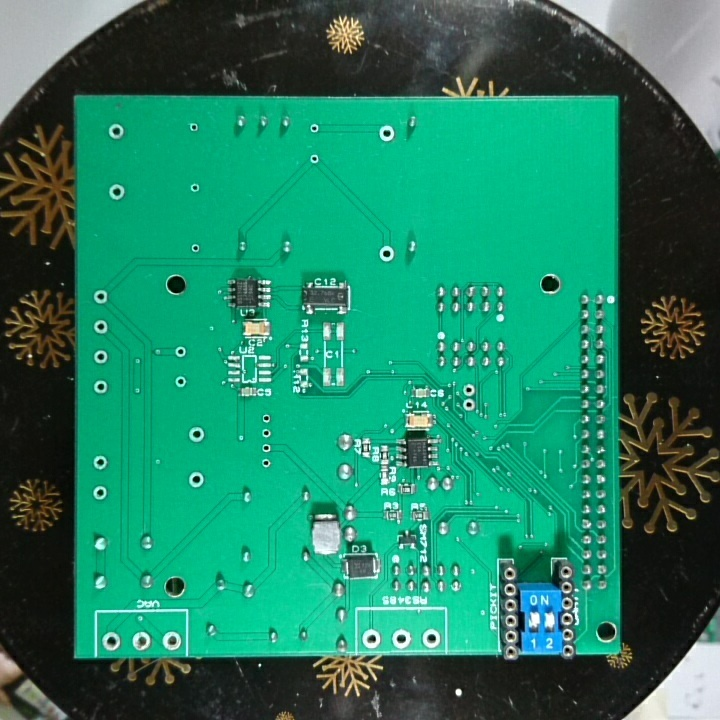F: (129, 628, 154, 652), (100, 629, 123, 654), (161, 629, 184, 653), (359, 627, 383, 650), (390, 627, 414, 650), (420, 626, 442, 650), (186, 469, 208, 492), (105, 122, 127, 144), (186, 422, 206, 446), (377, 243, 397, 266), (105, 181, 126, 202), (377, 122, 396, 145), (91, 346, 112, 366), (89, 484, 109, 505), (91, 286, 111, 306), (91, 452, 111, 472), (91, 318, 110, 337), (171, 342, 188, 362), (91, 378, 109, 396), (171, 373, 189, 390), (306, 150, 322, 167), (258, 454, 274, 471), (460, 381, 477, 397), (461, 397, 477, 413), (307, 120, 322, 136), (186, 120, 201, 136), (188, 240, 202, 257), (259, 427, 274, 442), (187, 180, 201, 196), (260, 440, 274, 455), (260, 412, 276, 425)
